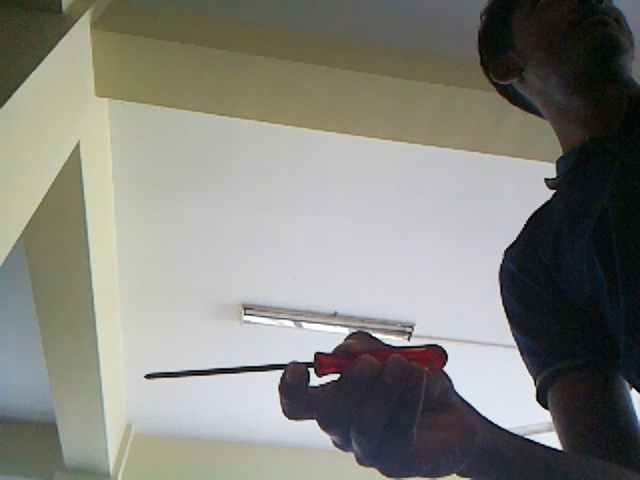redskrew: (137, 346, 453, 380)
